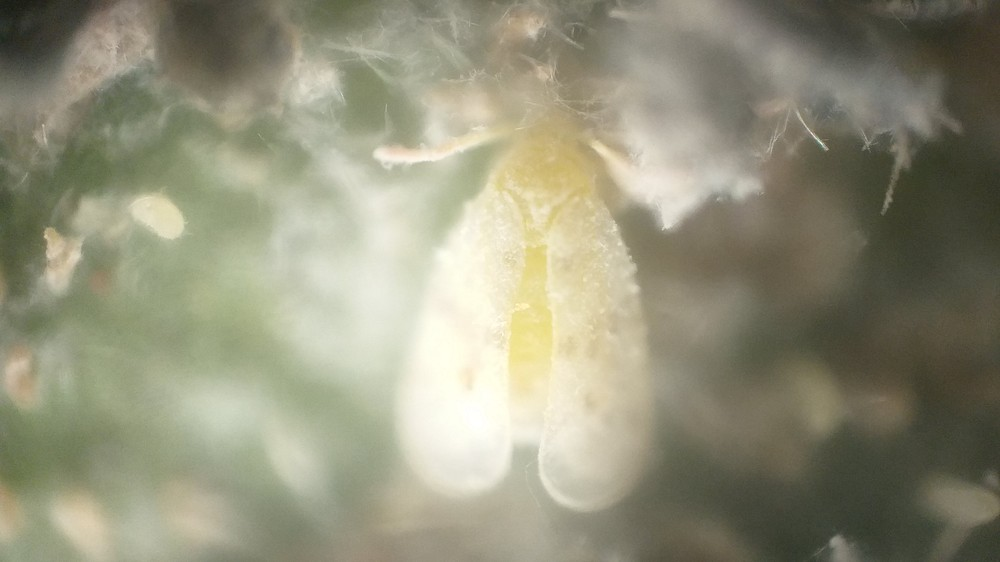Mosca Blanca: (336, 88, 699, 540)
